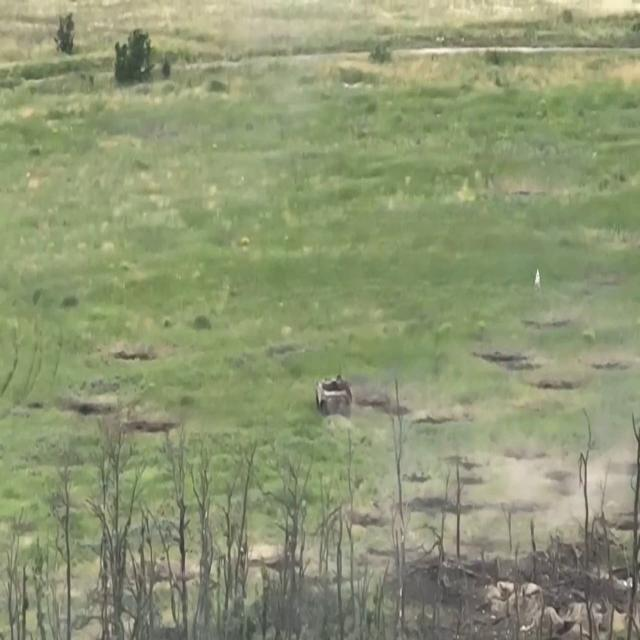AIFV: (315, 369, 355, 419)
